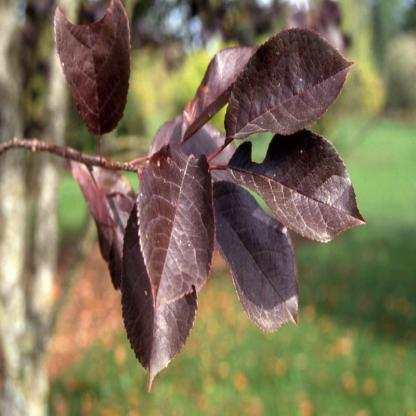cherry leaf: (227, 128, 373, 251), (220, 23, 362, 147), (204, 172, 309, 334), (47, 5, 150, 148), (140, 141, 218, 299)
